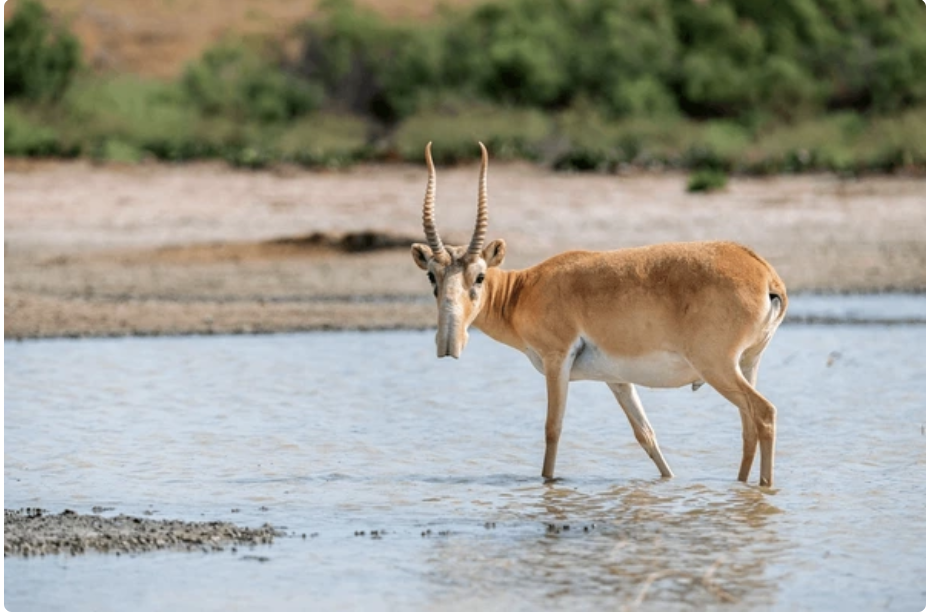saiga: (415, 142, 782, 498)
